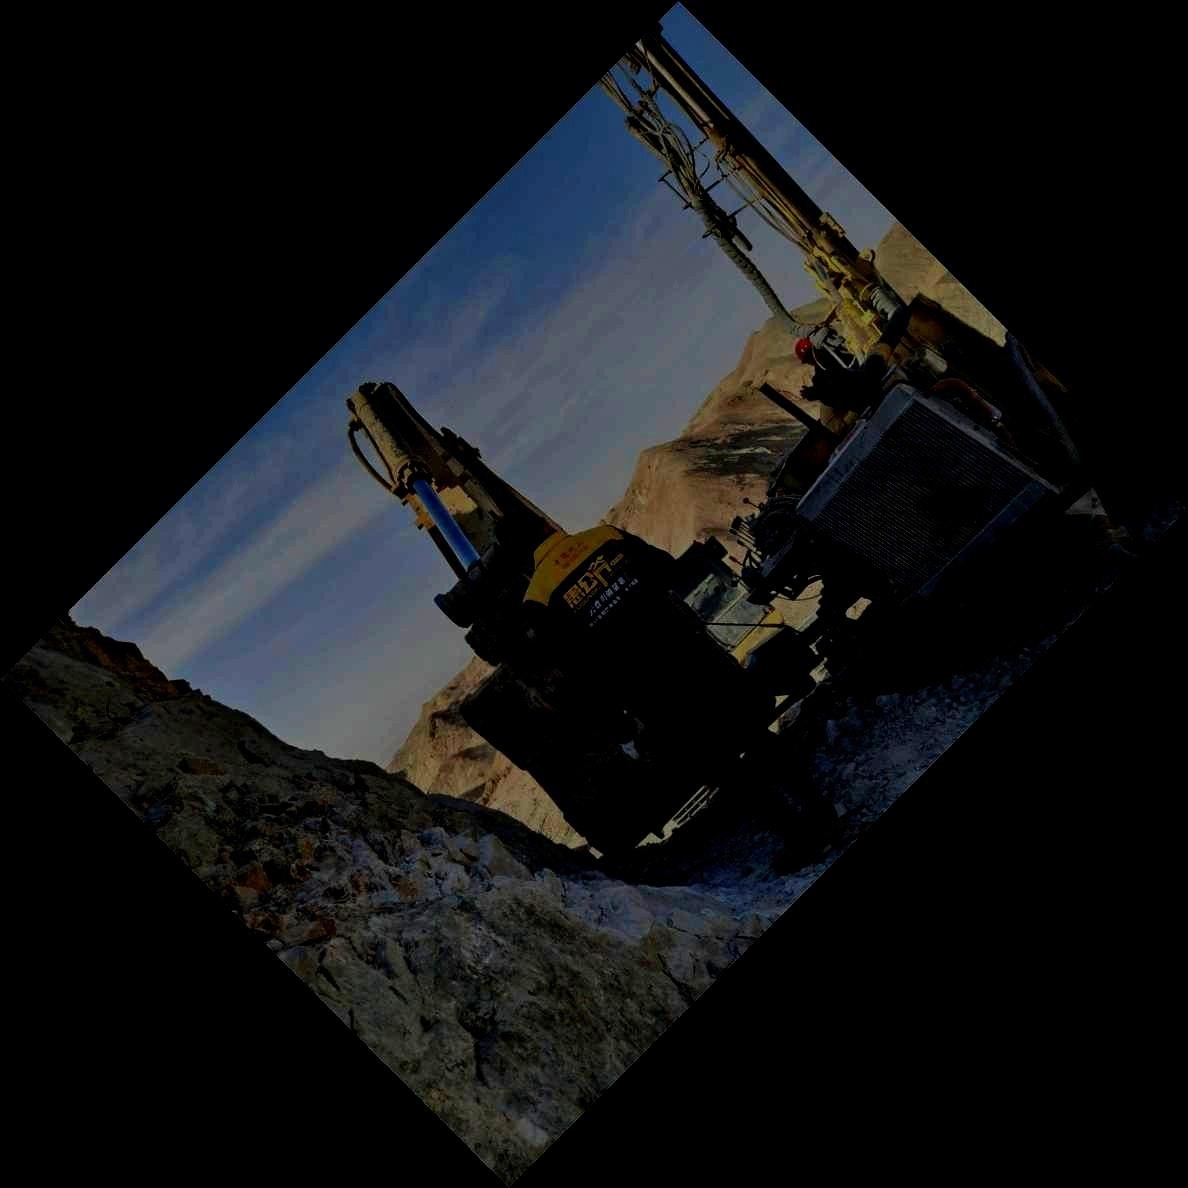helmet: (794, 338, 816, 366)
